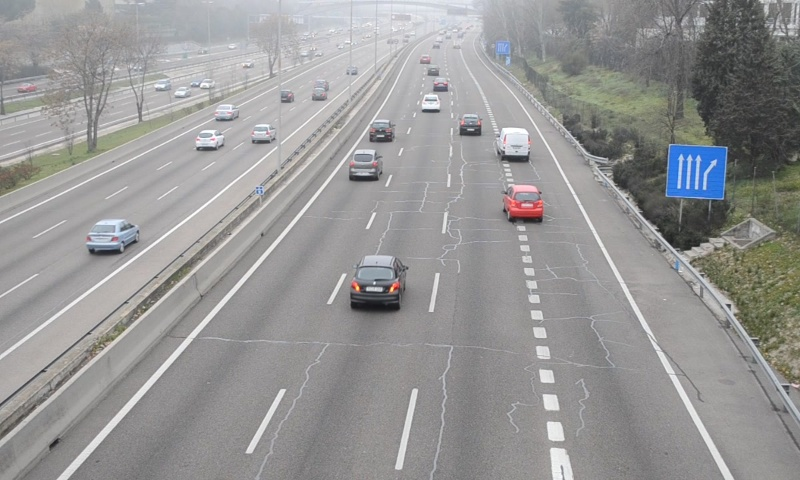car: (350, 255, 405, 310), (502, 183, 543, 220), (348, 149, 380, 178), (368, 120, 394, 141), (458, 113, 482, 134), (419, 91, 442, 112)
van: (496, 127, 531, 163)
